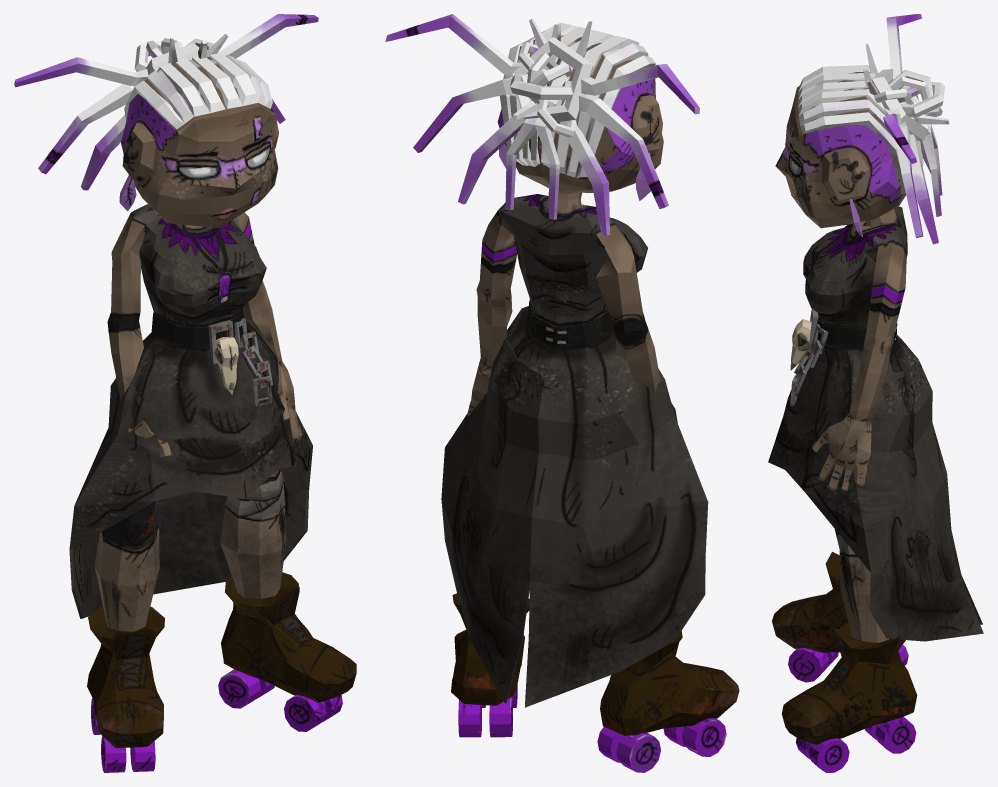
The model's file is bruja_000051.obj.
The picture shows the model from 3 angles, left to right: view 1: azimuth 30°, elevation 25°; view 2: azimuth 150°, elevation 25°; view 3: azimuth 270°, elevation 25°; orthographic projection. The views are drawn at different scales.
Parts seen in each view (by area): view 1: Bruja_Plane.001; view 2: Bruja_Plane.001; view 3: Bruja_Plane.001.
Boxes of the visible parts, <box> form: Bruja_Plane.001: <box>14,14,356,772</box>; Bruja_Plane.001: <box>385,14,739,772</box>; Bruja_Plane.001: <box>768,14,983,772</box>.
Size of the model in its own units: 7.48 by 16.58 by 4.88.
